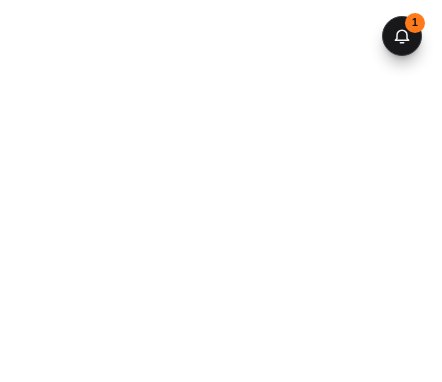
Test: campana de notificaciones › incorpora una notificación nueva al sondear a los 30 segundos
The image size is (442, 382).
Click the button named "Notificaciones,".
click(402, 36)  # box [382,16,422,56]
Wait 30000 ms
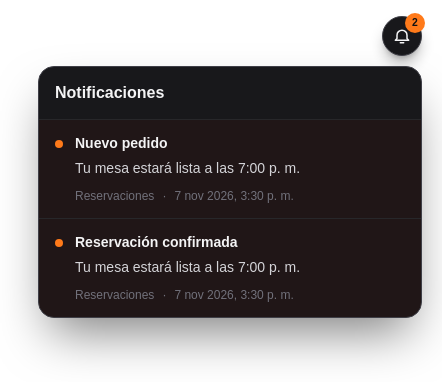
expect the text "Reservación confirmada" is shown: met, box [75,234,238,250]
expect the text "Nuevo pedido" is shown: met, box [75,135,168,151]
